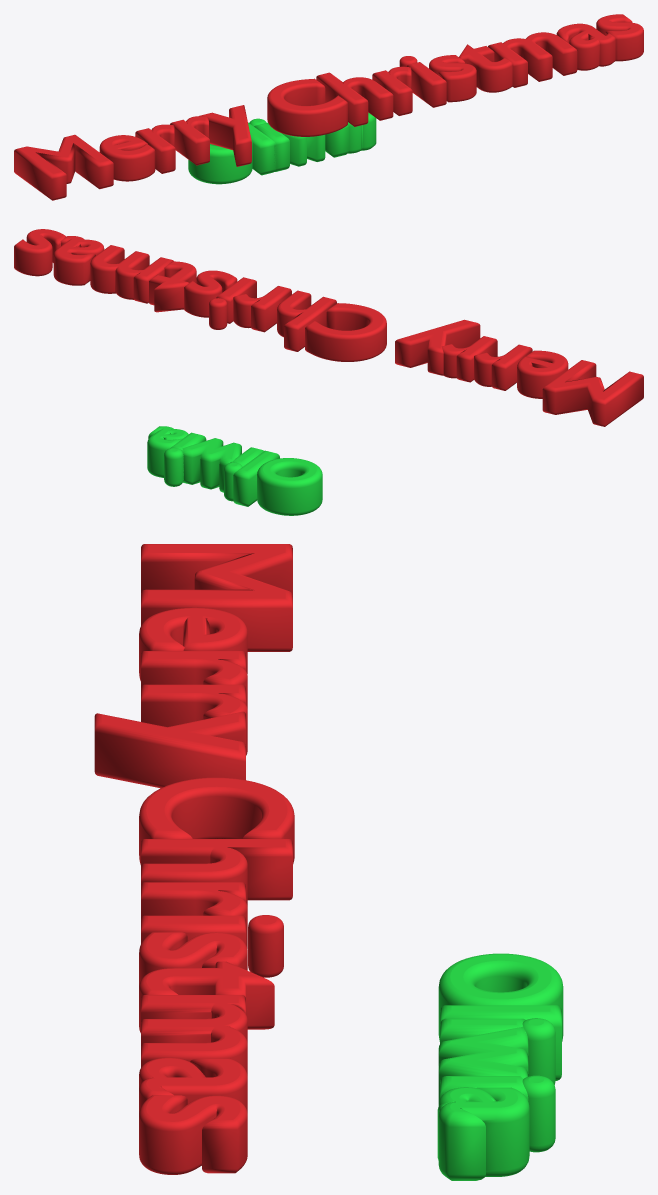
The model's file is Oliwia.glb.
The picture shows the model from 3 angles, top to bottom: view 1: azimuth 30°, elevation 25°; view 2: azimuth 150°, elevation 25°; view 3: azimuth 270°, elevation 25°; orthographic projection. The views are drawn at different scales.
Parts seen in each view (by area): view 1: Text, Text.001; view 2: Text, Text.001; view 3: Text, Text.001.
Part boxes in pixels (box(x1,y1,x2,y2)): Text: box(14, 14, 643, 200); Text.001: box(188, 112, 376, 184); Text: box(14, 229, 643, 426); Text.001: box(147, 426, 322, 515); Text: box(94, 544, 294, 1174); Text.001: box(437, 953, 563, 1180).
Bounding box in the file's own units: 9.52 × 1.91 × 3.23.
